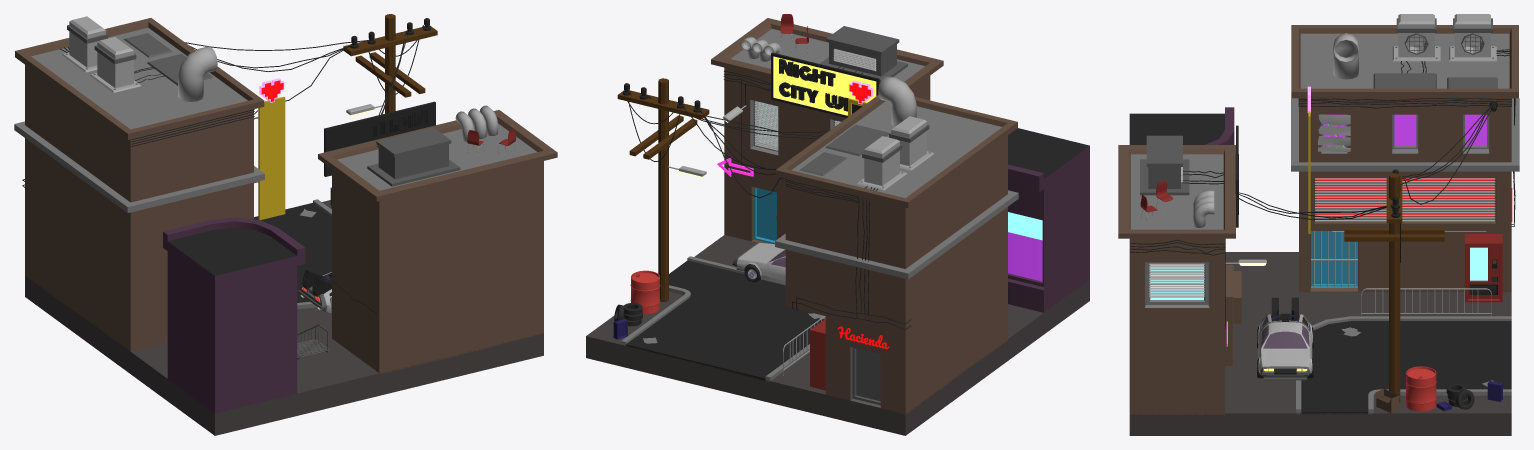
The model's file is diorama_of_cyberpunk_city..glb.
3 renders of one model, left to right at view 1: azimuth 30°, elevation 25°; view 2: azimuth 150°, elevation 25°; view 3: azimuth 270°, elevation 25°, orthographic. The views are drawn at different scales.
Visible parts, largest first — view 1: Cube.001_1, Cube_4, Cube.002_5, Plane_0, Cube.006_24, Plane.011_34, Plane.001_2, Cylinder_9, Plane.012_36, Vert.010_42, Cube.005_19, Cube.004_16 (+3 smaller); view 2: Cube.001_1, Cube_4, Plane_0, Cube.002_5, Plane.001_2, Cylinder_9, Vert.010_42, Plane.012_36, Cube.006_24, Cube.004_16, car.008_45, Cube.005_19 (+8 smaller); view 3: Cube.001_1, Cube_4, Plane_0, Plane.001_2, Vert.008_30, Cylinder_9, Vert.010_42, car.008_45, Cube.002_5, Cube.022_47, Cube.006_24, Vert.007_28 (+11 smaller).
Boxes of the visible parts, x1=… form: Cube.001_1: x1=14, y1=18, x2=264, y2=351; Cube_4: x1=318, y1=110, x2=557, y2=374; Cube.002_5: x1=163, y1=217, x2=305, y2=413; Plane_0: x1=25, y1=200, x2=543, y2=435; Cube.006_24: x1=367, y1=127, x2=460, y2=186; Plane.011_34: x1=254, y1=96, x2=285, y2=220; Plane.001_2: x1=254, y1=203, x2=331, y2=302; Cylinder_9: x1=343, y1=14, x2=437, y2=113; Plane.012_36: x1=324, y1=101, x2=435, y2=176; Vert.010_42: x1=22, y1=25, x2=423, y2=313; Cube.005_19: x1=90, y1=37, x2=140, y2=92; Cube.004_16: x1=62, y1=16, x2=108, y2=72; Cube.001_1: x1=775, y1=95, x2=1018, y2=415; Cube_4: x1=711, y1=18, x2=943, y2=243; Plane_0: x1=586, y1=235, x2=1089, y2=435; Cube.002_5: x1=1008, y1=128, x2=1089, y2=312; Plane.001_2: x1=626, y1=260, x2=824, y2=380; Cylinder_9: x1=617, y1=78, x2=709, y2=302; Vert.010_42: x1=625, y1=67, x2=911, y2=329; Plane.012_36: x1=771, y1=52, x2=879, y2=117; Cube.006_24: x1=819, y1=26, x2=907, y2=82; Cube.004_16: x1=857, y1=136, x2=906, y2=190; car.008_45: x1=732, y1=242, x2=785, y2=285; Cube.005_19: x1=889, y1=116, x2=933, y2=170; Cube.001_1: x1=1291, y1=25, x2=1519, y2=292; Cube_4: x1=1118, y1=145, x2=1241, y2=414; Plane_0: x1=1129, y1=252, x2=1511, y2=435; Plane.001_2: x1=1301, y1=321, x2=1511, y2=414; Vert.008_30: x1=1315, y1=178, x2=1495, y2=221; Cylinder_9: x1=1344, y1=173, x2=1444, y2=402; Vert.010_42: x1=1130, y1=49, x2=1515, y2=328; car.008_45: x1=1257, y1=297, x2=1313, y2=380; Cube.002_5: x1=1129, y1=107, x2=1234, y2=144; Cube.022_47: x1=1464, y1=234, x2=1502, y2=302; Cube.006_24: x1=1140, y1=135, x2=1189, y2=195; Vert.007_28: x1=1149, y1=263, x2=1204, y2=297.
Size of the model in its own units: 8.69 by 6.61 by 8.4.
